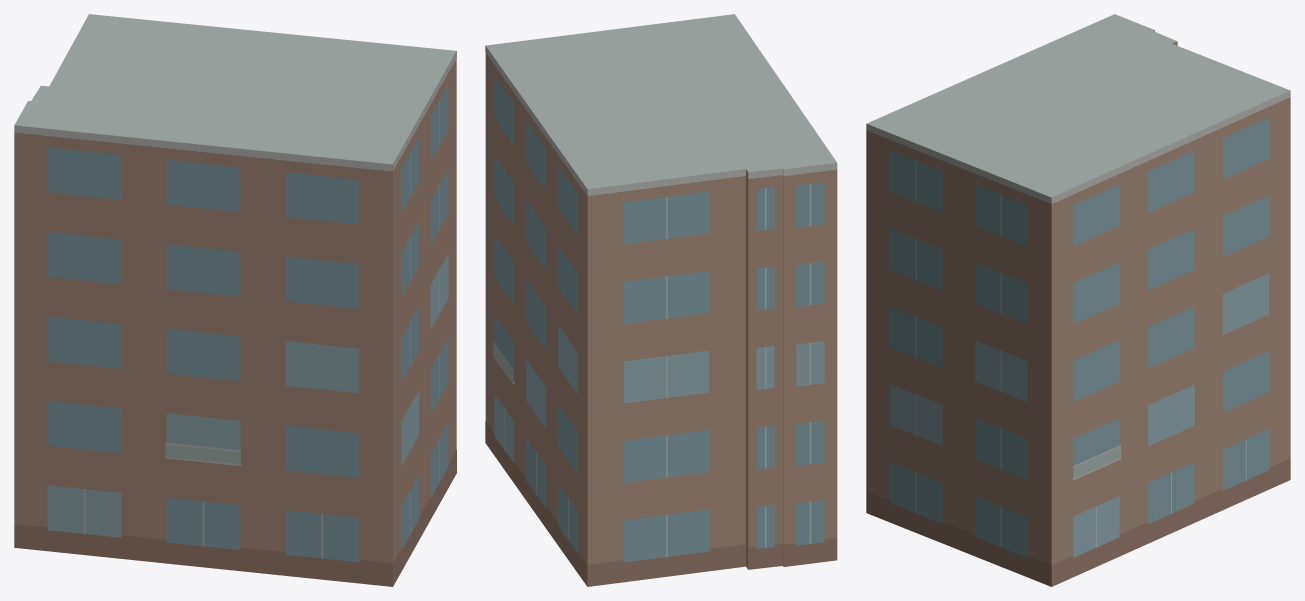
Rendered from survey-upis-33046956.glb.
3 renders of one model, left to right at view 1: azimuth 30°, elevation 25°; view 2: azimuth 150°, elevation 25°; view 3: azimuth 270°, elevation 25°, orthographic. The views are drawn at different scales.
Parts seen in each view (by area): view 1: survey-upis-33046956.tmp; view 2: survey-upis-33046956.tmp; view 3: survey-upis-33046956.tmp.
Boxes of the visible parts, x1,y1,x2,y2 form: survey-upis-33046956.tmp: [14, 14, 456, 586]; survey-upis-33046956.tmp: [485, 14, 837, 586]; survey-upis-33046956.tmp: [866, 14, 1290, 586].
Size of the model in its own units: 14.57 by 14.4 by 14.23.
